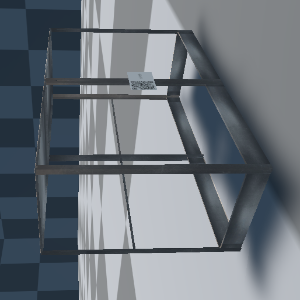Rack: (32, 23, 276, 257)
